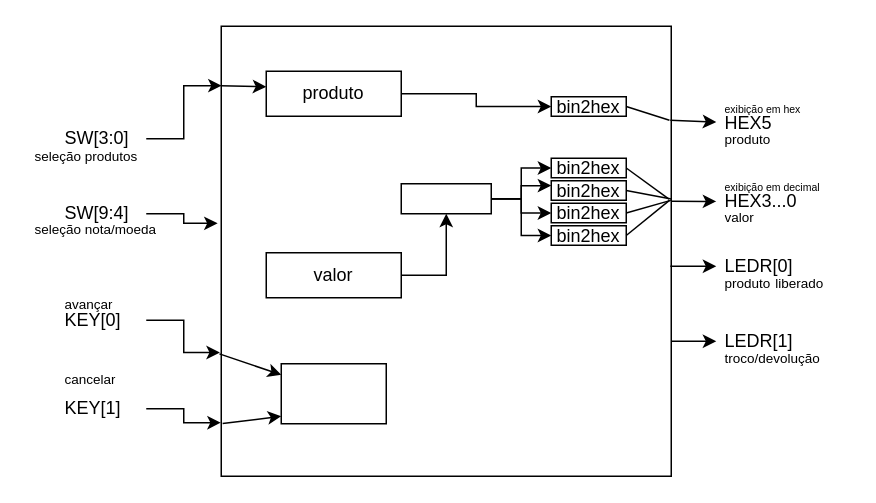
Image size: 876x503. Some labels were removed from this diagram. The box of each missing label's shape, as (x1, y1, x2, y2) in pixels:
bin2BCD: (400, 182, 491, 214)
Máquina de Controle: (280, 362, 386, 424)
